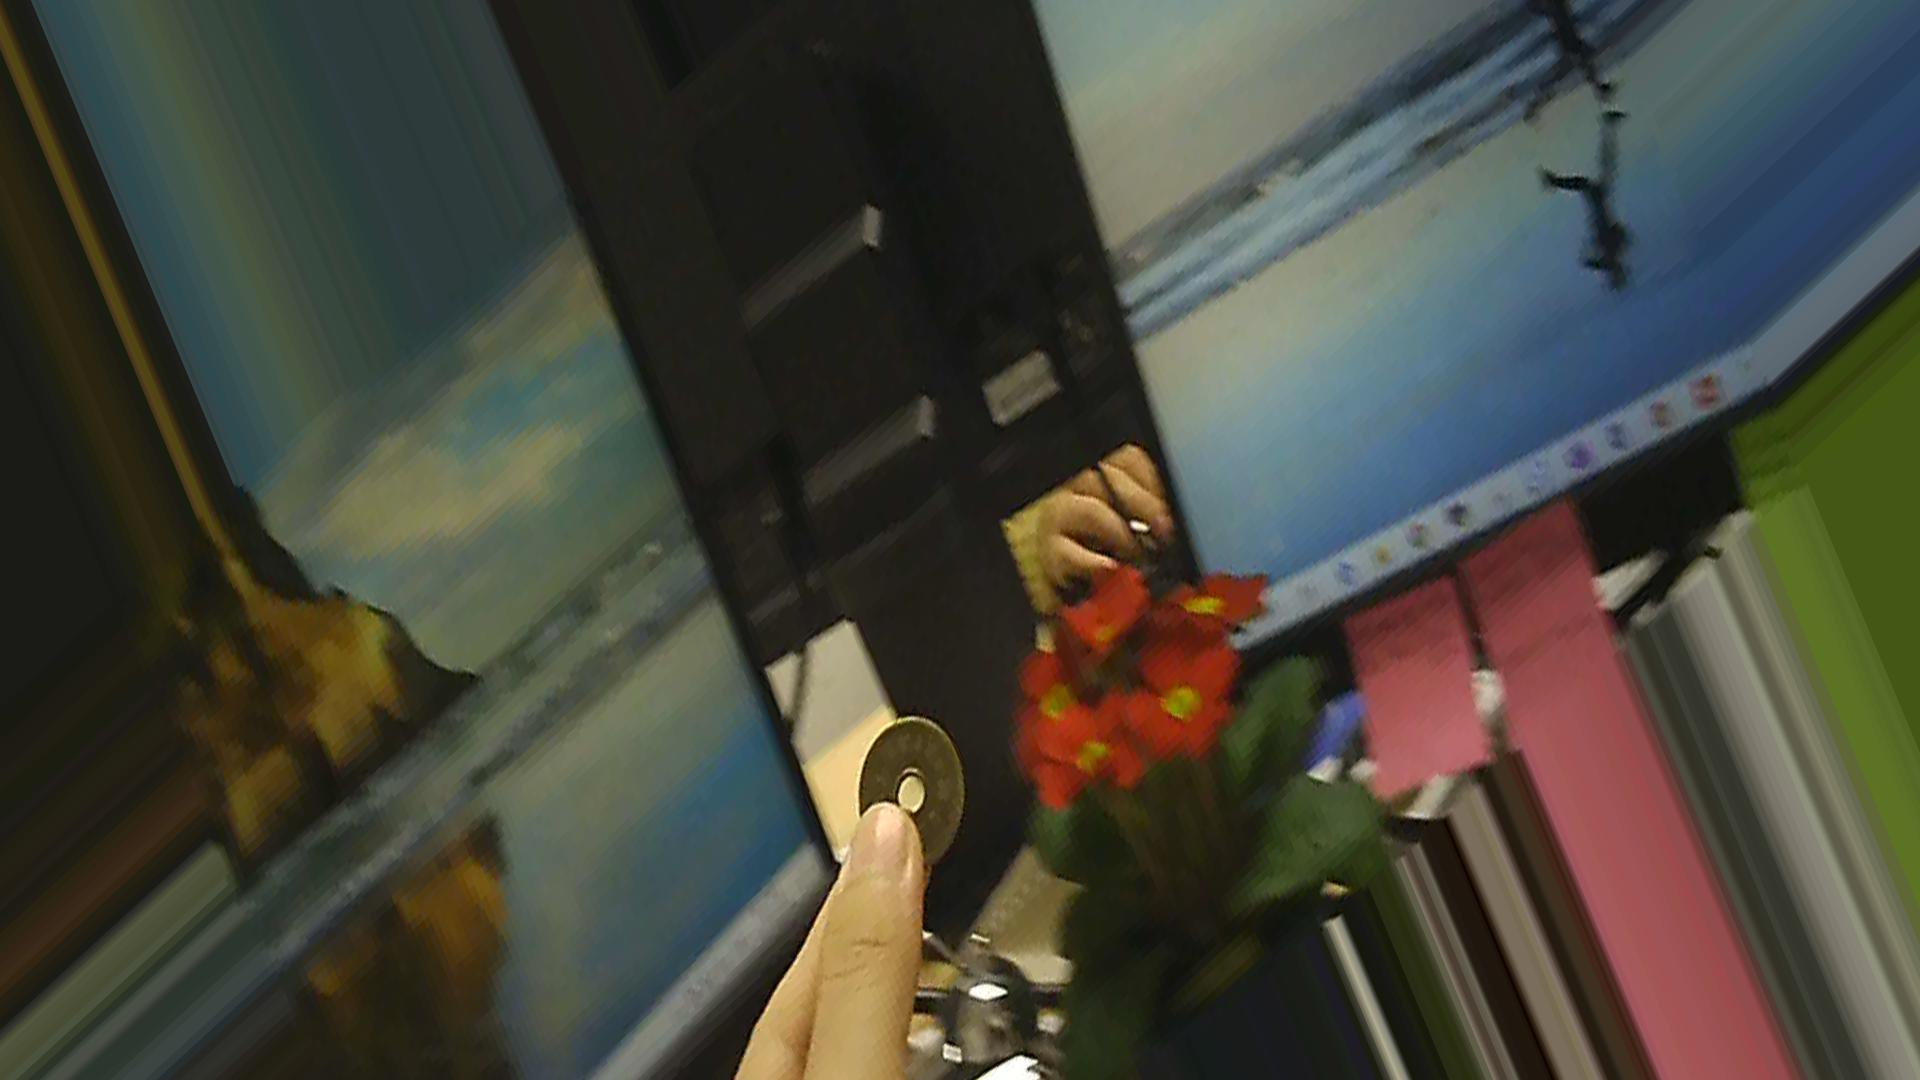5 Yen: (857, 713, 971, 866)
